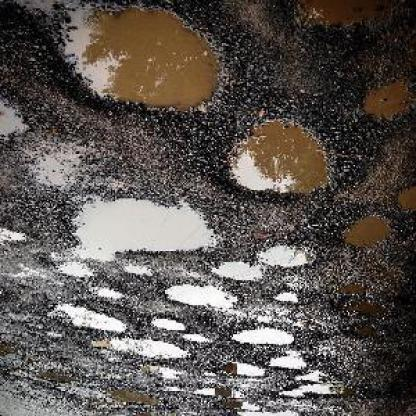pothole: (45, 5, 227, 120), (62, 194, 224, 262), (224, 122, 334, 204), (266, 3, 403, 53), (351, 79, 416, 136), (91, 338, 194, 366), (337, 215, 395, 256), (51, 308, 131, 337), (276, 374, 351, 403), (162, 288, 241, 314), (255, 244, 319, 271), (1, 99, 36, 144), (230, 330, 294, 352), (209, 263, 266, 285), (217, 364, 273, 381), (269, 357, 310, 373), (151, 318, 185, 334), (395, 191, 416, 216), (274, 292, 301, 308)
